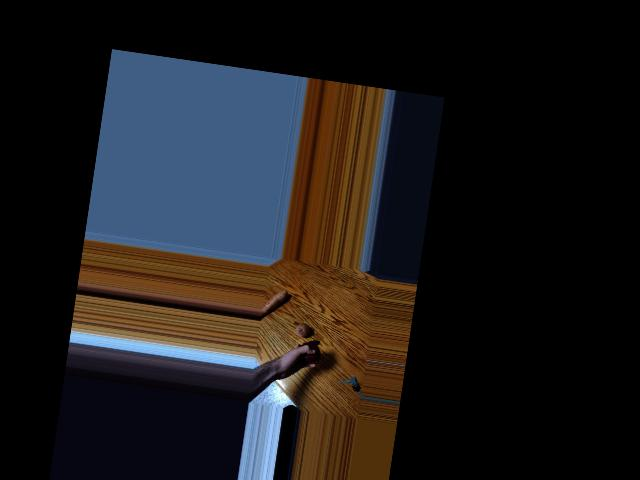onion: (290, 322, 310, 343)
